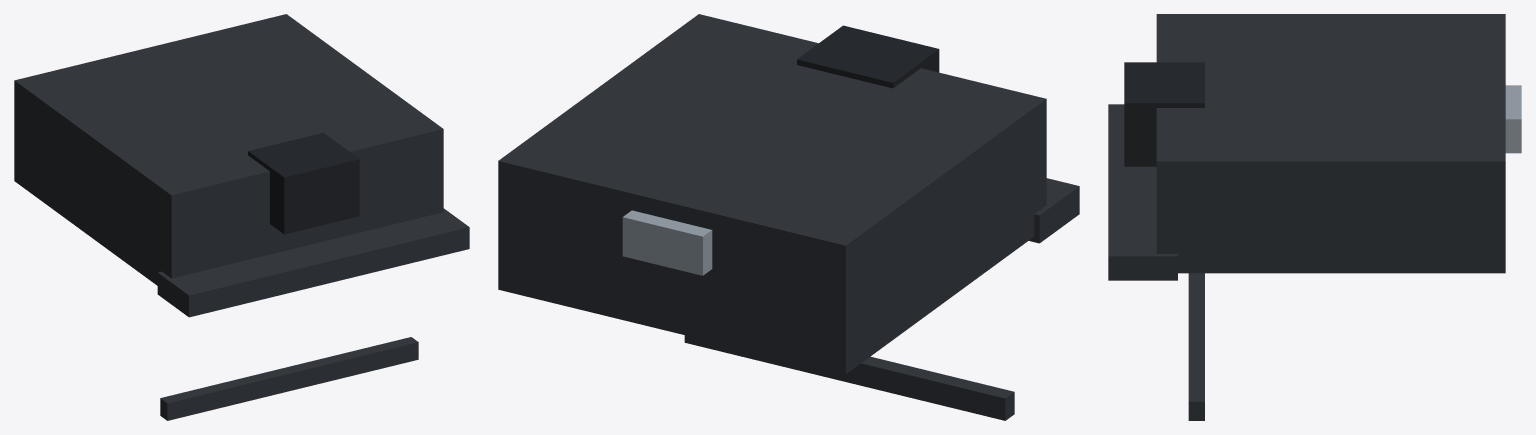
Rendered from pc_assault_gear_helmet.fbx.
3 renders of one model, left to right at view 1: azimuth 30°, elevation 25°; view 2: azimuth 150°, elevation 25°; view 3: azimuth 270°, elevation 25°, orthographic. The views are drawn at different scales.
Parts seen in each view (by area): view 1: pc_assault_gear_helmet; view 2: pc_assault_gear_helmet; view 3: pc_assault_gear_helmet.
Boxes of the visible parts, x1,y1,x2,y2 form: pc_assault_gear_helmet: (14,14,469,420); pc_assault_gear_helmet: (498,14,1079,420); pc_assault_gear_helmet: (1108,14,1521,420).
Size of the model in its own units: 134 by 111 by 154.
